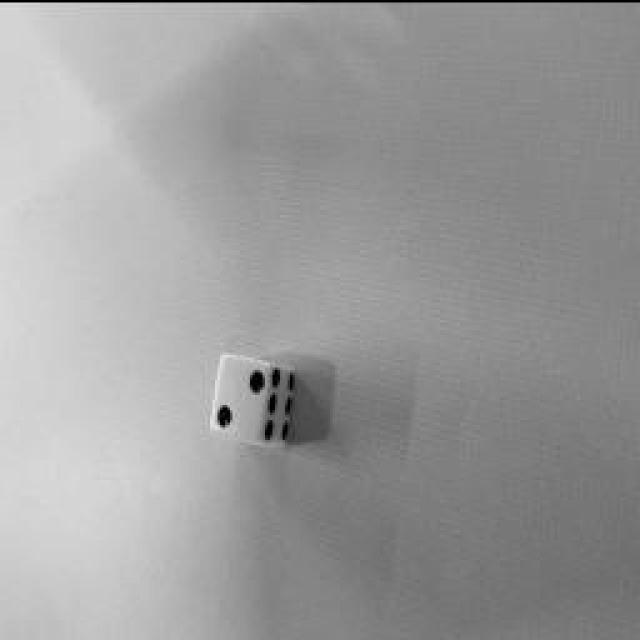dice_2: (210, 352, 270, 442)
